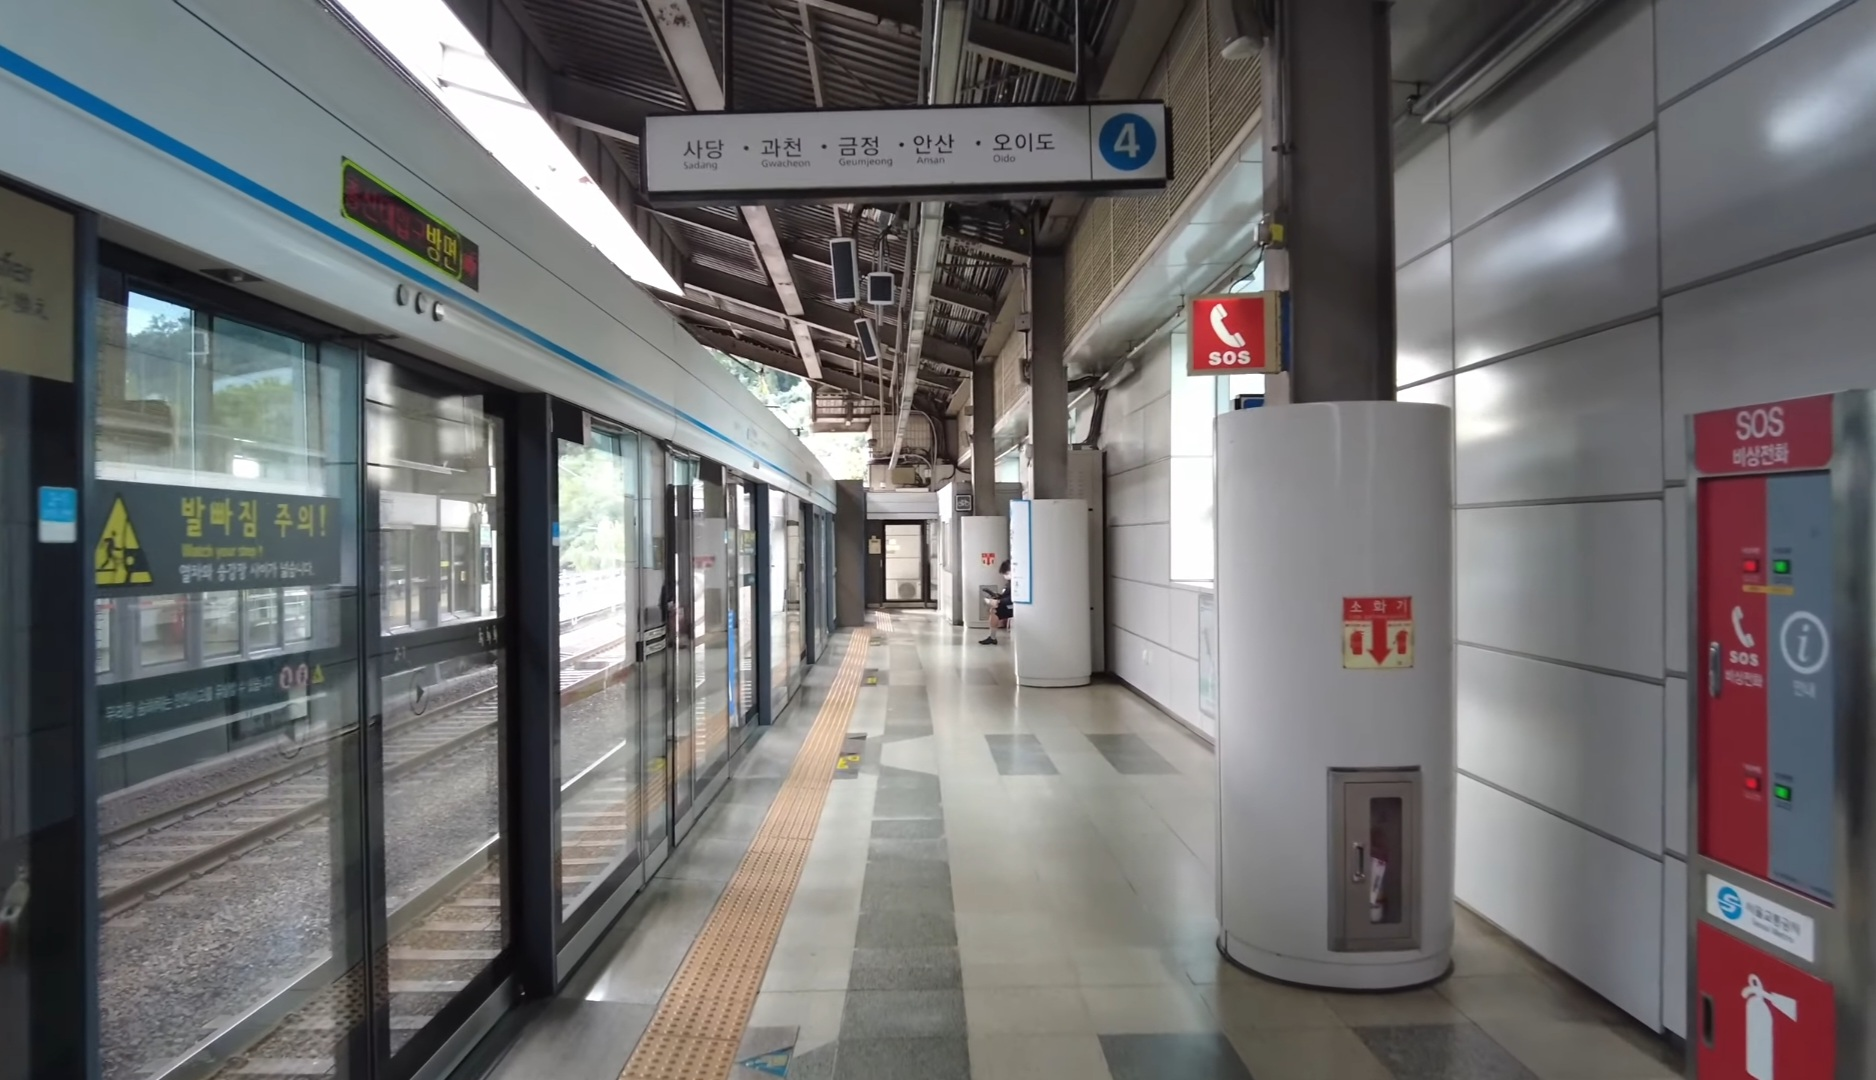signBoard: (612, 44, 1194, 209)
